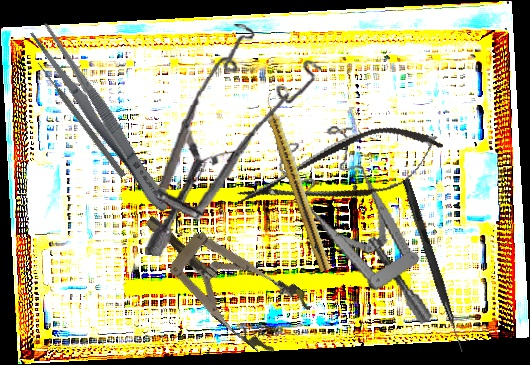Dressing Forceps: (25, 19, 178, 219)
Handpiece: (259, 91, 335, 273)
Hook Surgical: (399, 178, 469, 354)
Micro Scissor: (229, 112, 451, 230)
Pusher: (34, 60, 128, 179)
Speculum: (144, 18, 325, 267), (272, 114, 435, 345), (125, 189, 317, 361)
